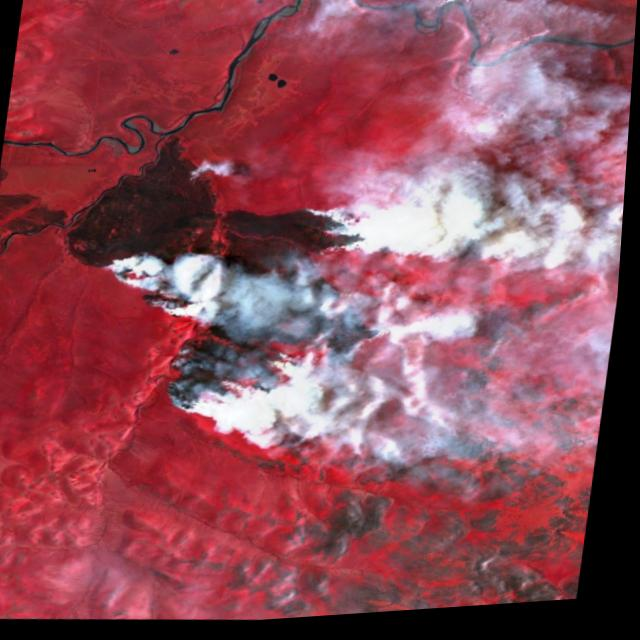fire: (85, 135, 421, 446)
